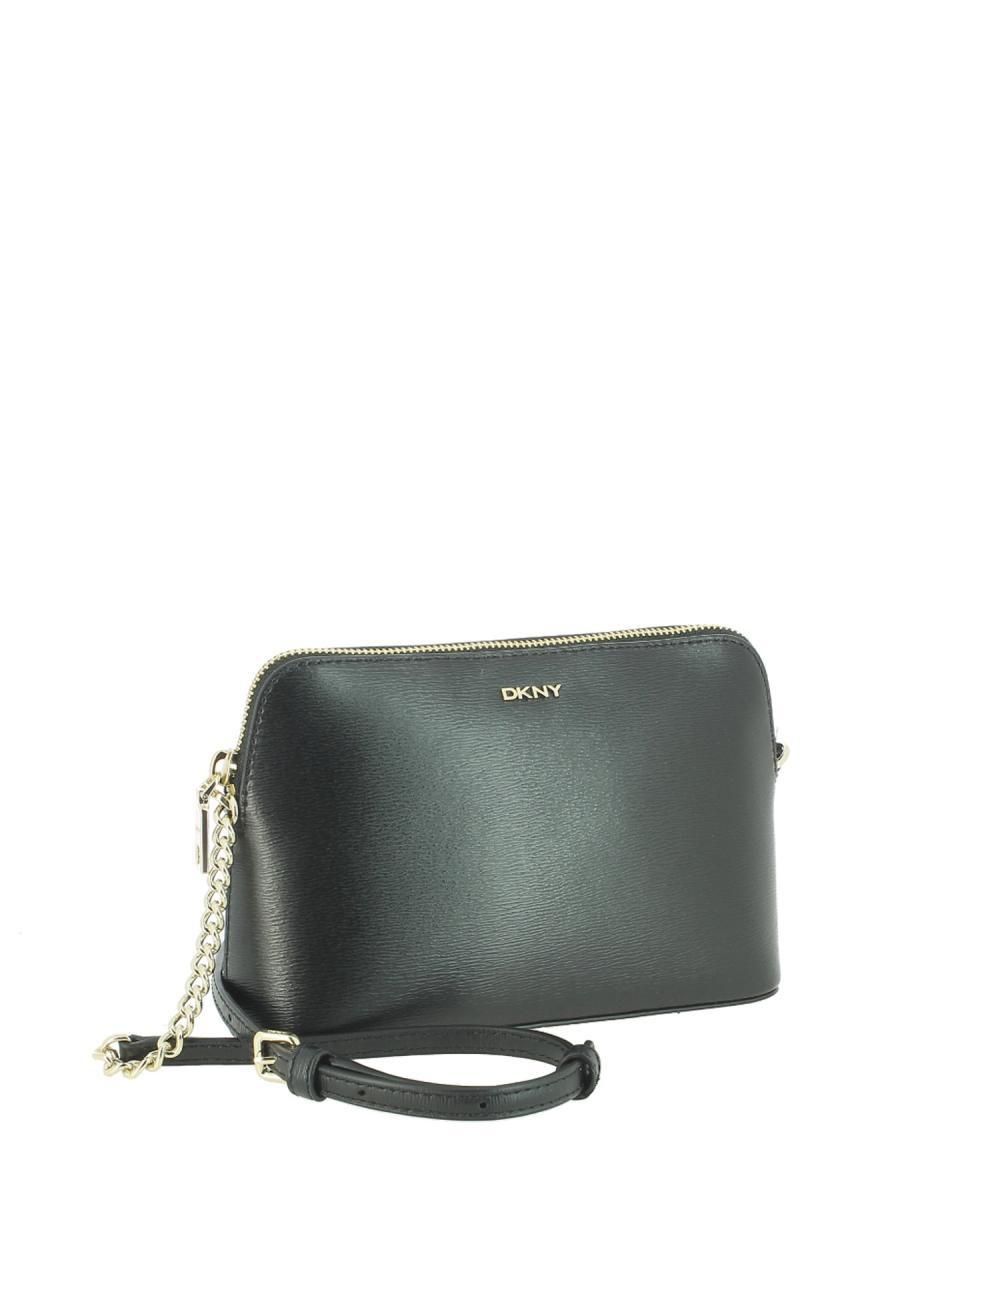DKNY: (501, 684, 563, 700)
